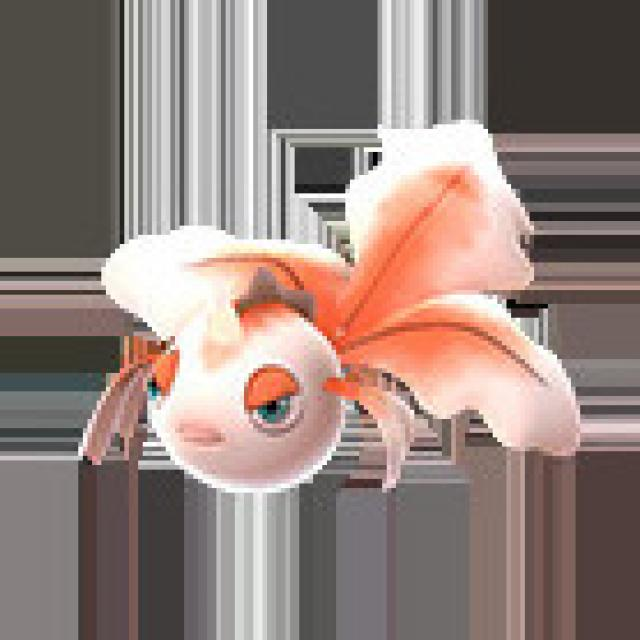Goldeen: (60, 161, 565, 516)
